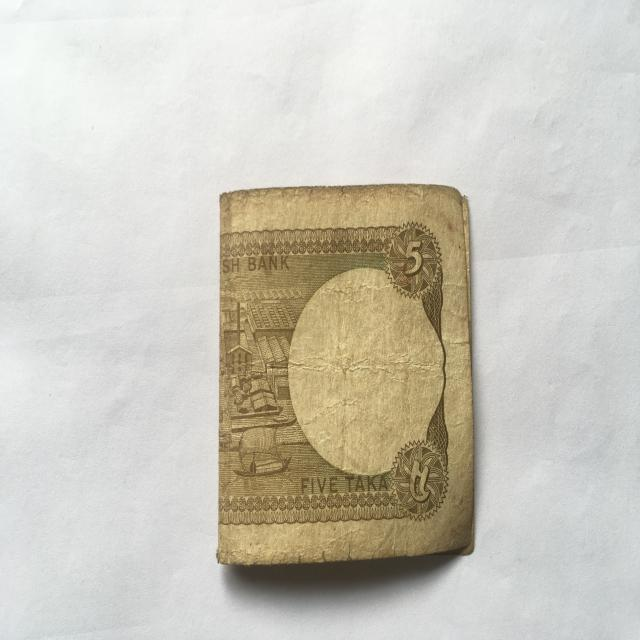Taka: (214, 180, 484, 563)
